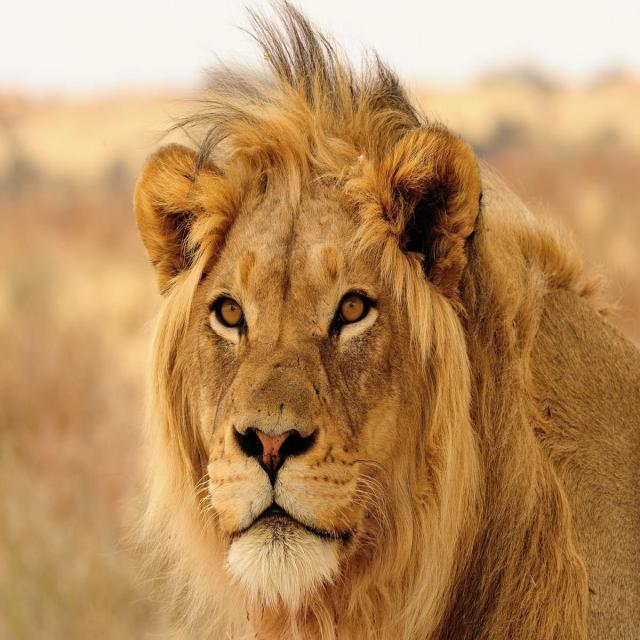lion: (134, 4, 639, 639)
